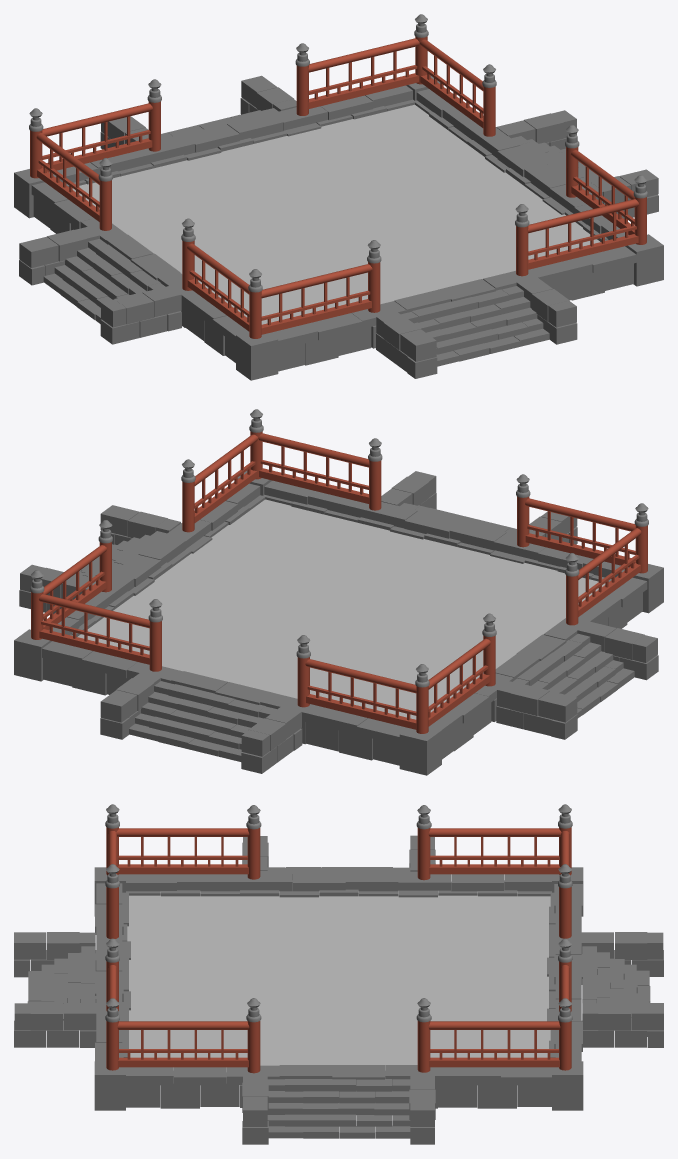
File: SM_platform_temple.fbx
3 views of the same model, one above another, from view 1: azimuth 30°, elevation 25°; view 2: azimuth 150°, elevation 25°; view 3: azimuth 270°, elevation 25° (orthographic). The views are drawn at different scales.
Visible parts, largest first — view 1: Object32473; view 2: Object32473; view 3: Object32473.
Boxes of the visible parts, x1,y1,x2,y2 form: Object32473: (14,14,663,380); Object32473: (14,409,663,775); Object32473: (14,804,663,1144).
Bounding box in the file's own units: 368 × 65.68 × 368.
